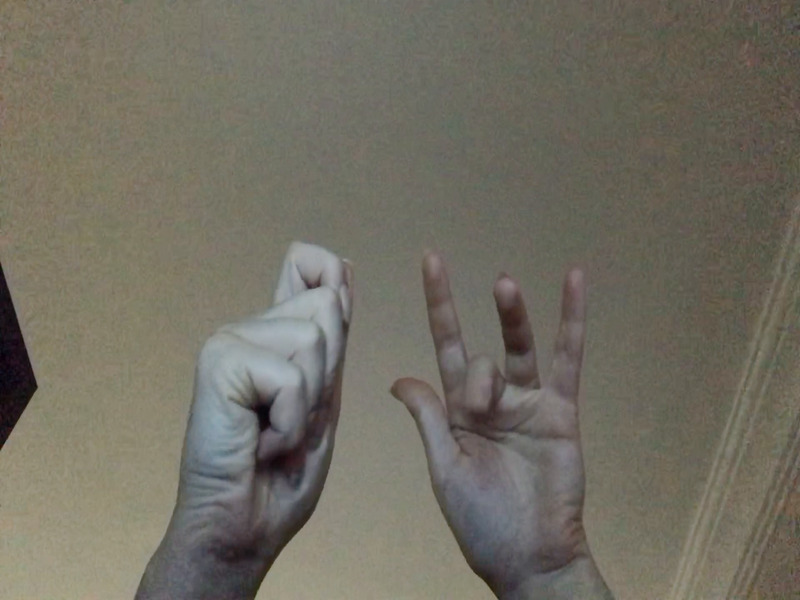hand: (384, 248, 593, 562), (180, 240, 351, 563)
